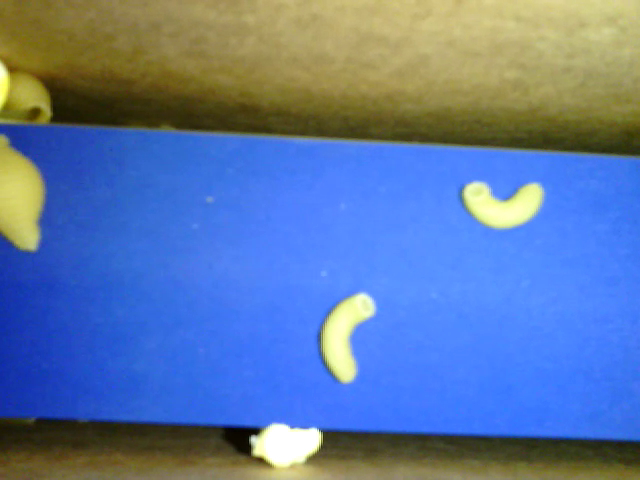elbow: (310, 288, 384, 384), (461, 180, 546, 231)
shell: (1, 132, 45, 254), (2, 68, 53, 126)
